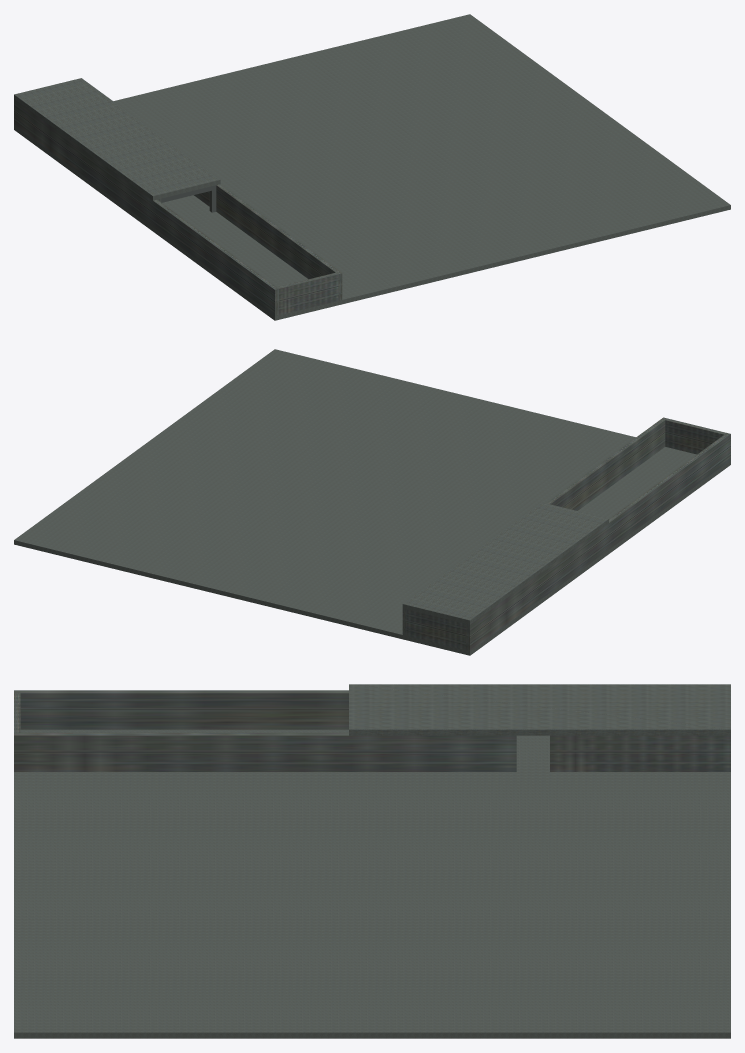
File: Home.obj
3 views of the same model, one above another, from view 1: azimuth 30°, elevation 25°; view 2: azimuth 150°, elevation 25°; view 3: azimuth 270°, elevation 25° (orthographic). The views are drawn at different scales.
Parts seen in each view (by area): view 1: Cube, Cube.006, Cube.005, Cube.004, Cube.007; view 2: Cube, Cube.006, Cube.005, Cube.004, Cube.003, Cube.007; view 3: Cube, Cube.006, Cube.004, Cube.005, Cube.002.
Part boxes in pixels (bbox=[...]): Cube: bbox=[14, 14, 730, 320]; Cube.006: bbox=[14, 78, 220, 200]; Cube.005: bbox=[14, 99, 278, 316]; Cube.004: bbox=[194, 184, 342, 300]; Cube.007: bbox=[277, 272, 338, 315]; Cube: bbox=[14, 349, 730, 655]; Cube.006: bbox=[402, 502, 608, 624]; Cube.005: bbox=[466, 433, 730, 651]; Cube.004: bbox=[546, 417, 667, 510]; Cube.003: bbox=[406, 609, 465, 650]; Cube.007: bbox=[665, 418, 726, 454]; Cube: bbox=[14, 729, 730, 1038]; Cube.006: bbox=[349, 684, 730, 735]; Cube.004: bbox=[14, 733, 516, 771]; Cube.005: bbox=[14, 690, 348, 729]; Cube.002: bbox=[550, 735, 730, 771].
Bounding box in the file's own units: 108 × 8 × 107.
